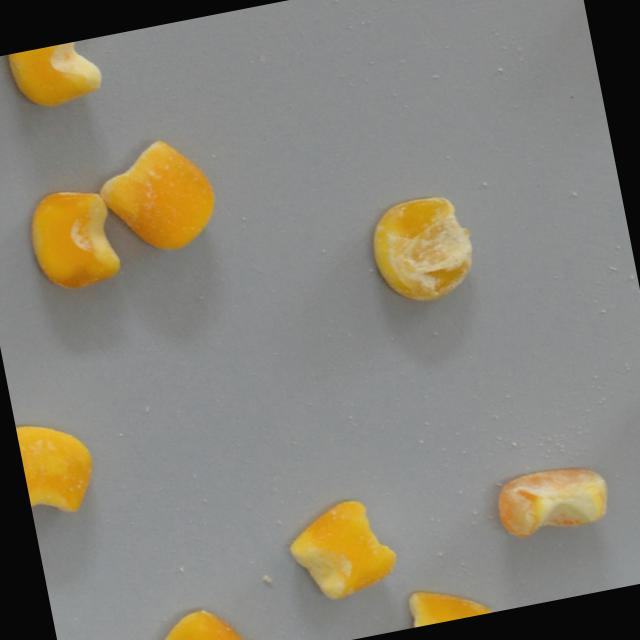dañado: (136, 600, 256, 640)
no_canjicado: (365, 577, 497, 636)
pelicula: (95, 130, 225, 261), (363, 188, 481, 311), (283, 495, 402, 607), (22, 183, 125, 298), (492, 460, 611, 542), (15, 415, 104, 522), (5, 37, 108, 115)
